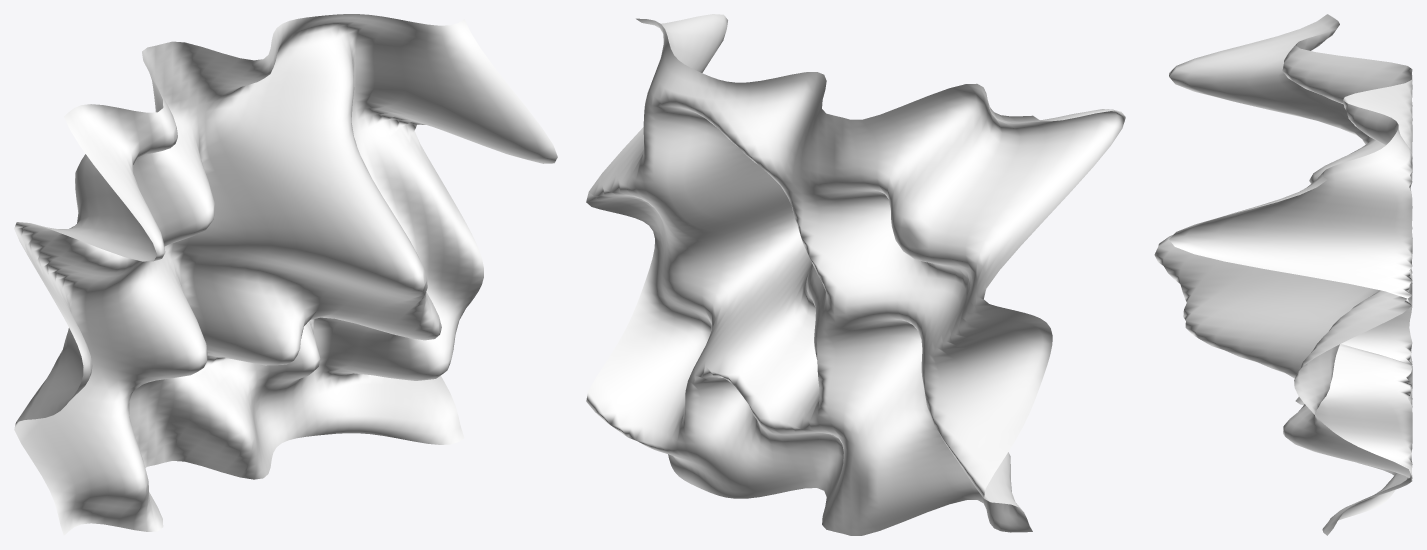
Rendered from fogSurface.obj.
3 renders of one model, left to right at view 1: azimuth 30°, elevation 25°; view 2: azimuth 150°, elevation 25°; view 3: azimuth 270°, elevation 25°, orthographic. The views are drawn at different scales.
Parts seen in each view (by area): view 1: FogSurface; view 2: FogSurface; view 3: FogSurface.
Part boxes in pixels (box(x1,y1,x2,y2)): FogSurface: box(14, 14, 557, 535); FogSurface: box(586, 14, 1125, 535); FogSurface: box(1154, 14, 1412, 535).
Size of the model in its own units: 2 by 2 by 1.31.
Materials: 1 (1 with a texture image).
